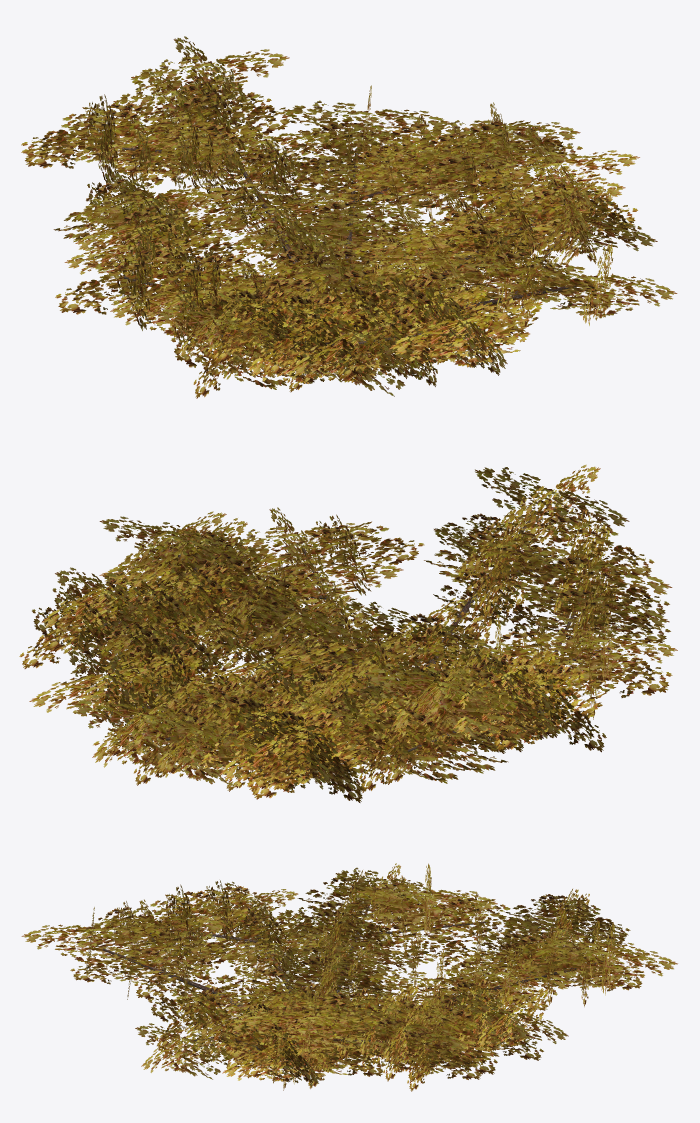
Rendered from bush_3d_04_yellow_lod0.glb.
The picture shows the model from 3 angles, top to bottom: view 1: azimuth 30°, elevation 25°; view 2: azimuth 150°, elevation 25°; view 3: azimuth 270°, elevation 25°; orthographic projection. The views are drawn at different scales.
Visible parts, largest first — view 1: foliage_cards, wood_geometry; view 2: foliage_cards, wood_geometry; view 3: foliage_cards, wood_geometry.
Part boxes in pixels (x1,y1,x2,y2): foliage_cards: (21,36,677,398); wood_geometry: (122,87,579,357); foliage_cards: (19,464,677,802); wood_geometry: (103,513,614,753); foliage_cards: (21,863,677,1091); wood_geometry: (102,899,604,1061).
Size of the model in its own units: 2.79 by 0.816 by 3.7.
Materials: 2 (2 with a texture image).
